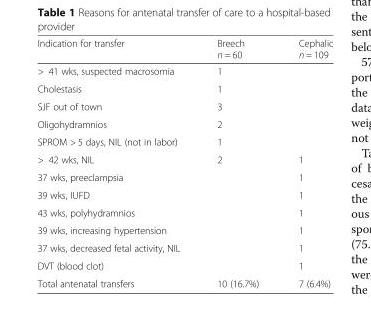table: (36, 37, 332, 288)
table column: (36, 37, 196, 288), (196, 37, 277, 288), (277, 37, 332, 288)
table column header: (36, 37, 332, 62)
table row: (36, 37, 332, 62), (36, 79, 332, 97), (36, 114, 332, 132), (36, 132, 332, 150), (36, 150, 332, 168), (36, 185, 332, 203), (36, 203, 332, 221), (36, 238, 332, 256), (36, 256, 332, 274), (36, 62, 332, 79), (36, 97, 332, 114), (36, 168, 332, 185), (36, 221, 332, 238), (36, 274, 332, 288)
table spanning cell: (36, 185, 277, 203), (36, 203, 277, 221), (36, 238, 277, 256), (36, 256, 277, 274), (36, 168, 277, 185), (36, 221, 277, 238), (196, 79, 332, 97), (196, 114, 332, 132), (196, 132, 332, 150), (196, 62, 332, 79), (196, 97, 332, 114)
